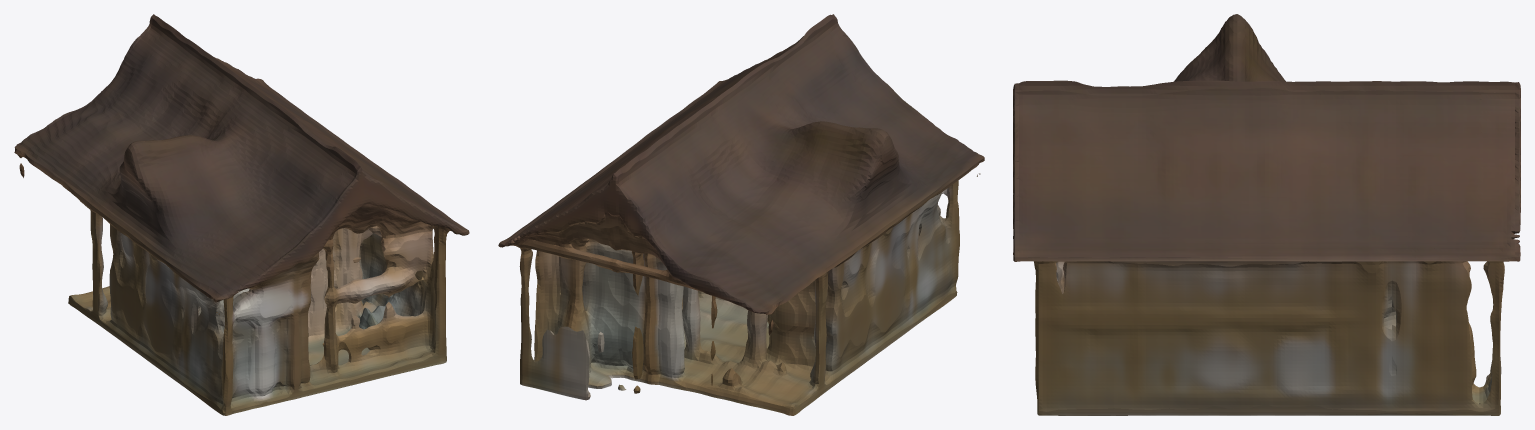
The model's file is tmpohwpd819.glb.
3 renders of one model, left to right at view 1: azimuth 30°, elevation 25°; view 2: azimuth 150°, elevation 25°; view 3: azimuth 270°, elevation 25°, orthographic. The views are drawn at different scales.
Visible parts, largest first — view 1: tmp9mur_2vj.ply; view 2: tmp9mur_2vj.ply; view 3: tmp9mur_2vj.ply.
Boxes of the visible parts, x1,y1,x2,y2 form: tmp9mur_2vj.ply: (14,14,469,415); tmp9mur_2vj.ply: (498,14,984,415); tmp9mur_2vj.ply: (1013,14,1520,415).
Bounding box in the file's own units: 1.39 × 1.21 × 1.98.
